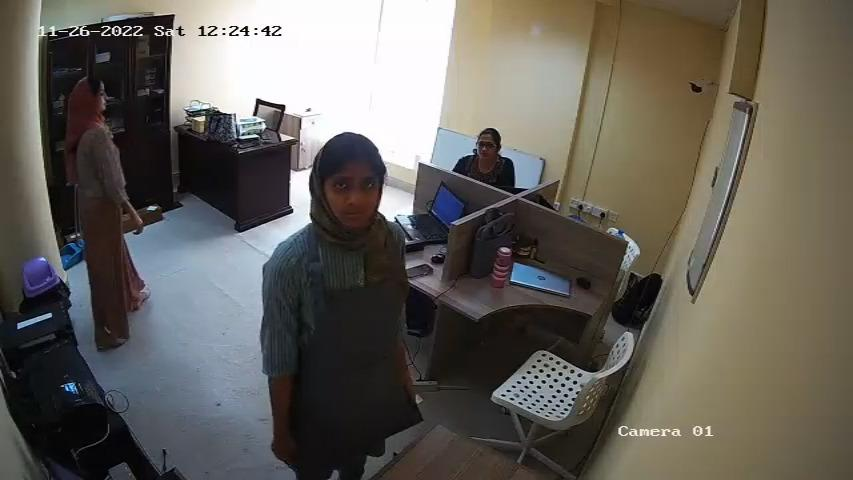apron: (295, 247, 407, 444)
